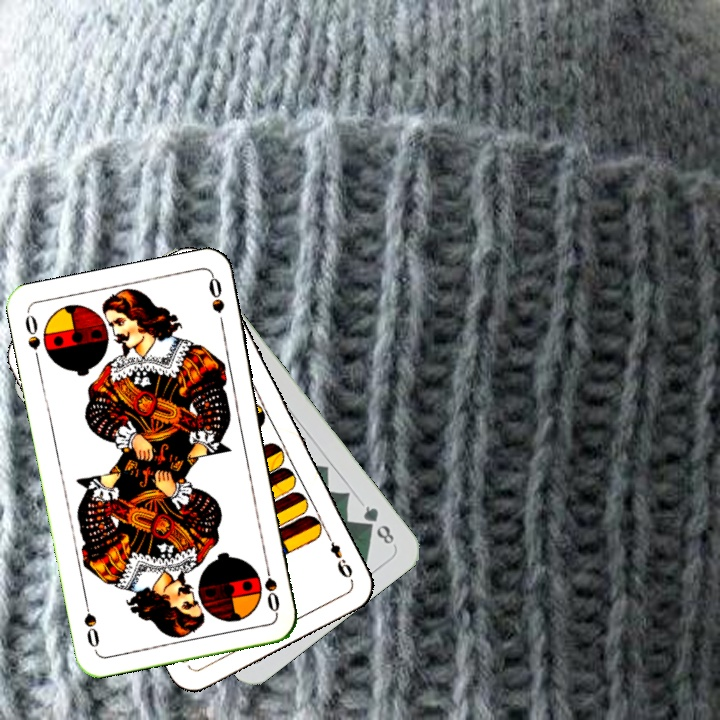E9: (321, 528, 356, 583)
G8: (358, 501, 397, 548)
SO: (20, 310, 43, 368), (260, 557, 282, 616)
